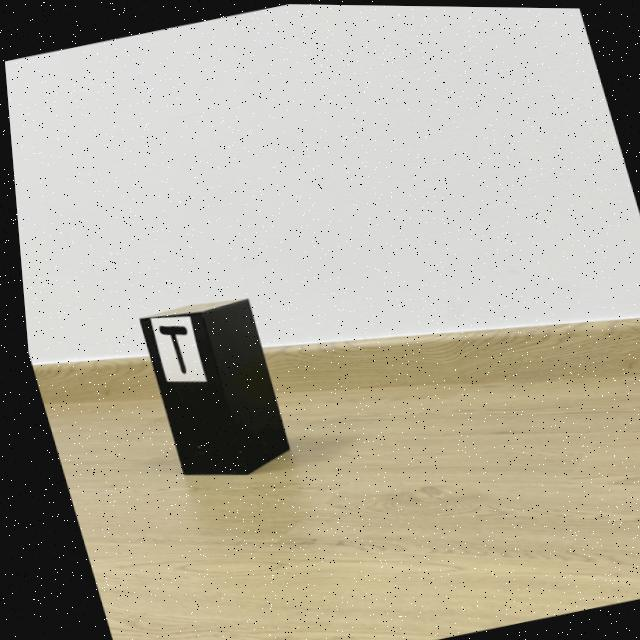T: (153, 324, 182, 373)
